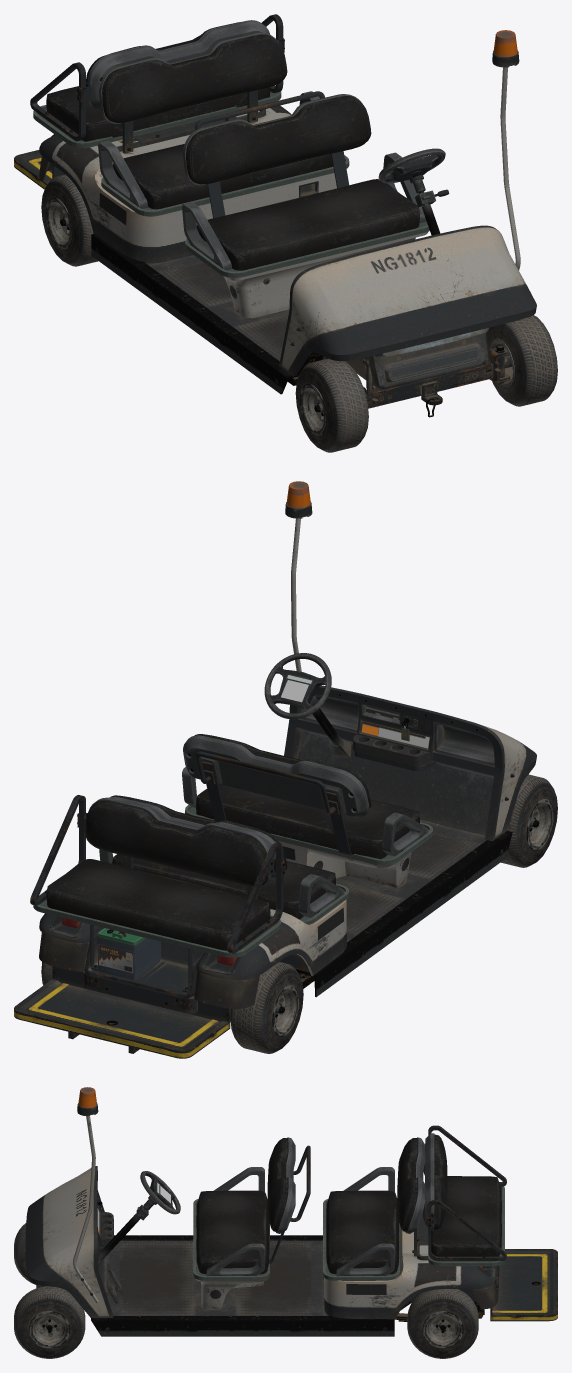
File: airside_cart.glb
3 renders of one model, top to bottom at view 1: azimuth 30°, elevation 25°; view 2: azimuth 150°, elevation 25°; view 3: azimuth 270°, elevation 25°, orthographic. The views are drawn at different scales.
Parts seen in each view (by area): view 1: airportcart.mdl.cleaner.materialmerger.gles; view 2: airportcart.mdl.cleaner.materialmerger.gles; view 3: airportcart.mdl.cleaner.materialmerger.gles.
Boxes of the visible parts, x1,y1,x2,y2 form: airportcart.mdl.cleaner.materialmerger.gles: (14, 14, 557, 452); airportcart.mdl.cleaner.materialmerger.gles: (14, 481, 557, 1058); airportcart.mdl.cleaner.materialmerger.gles: (14, 1087, 557, 1358).
Size of the model in its own units: 1.53 by 2.22 by 4.08.
Materials: 5 (5 with a texture image).
